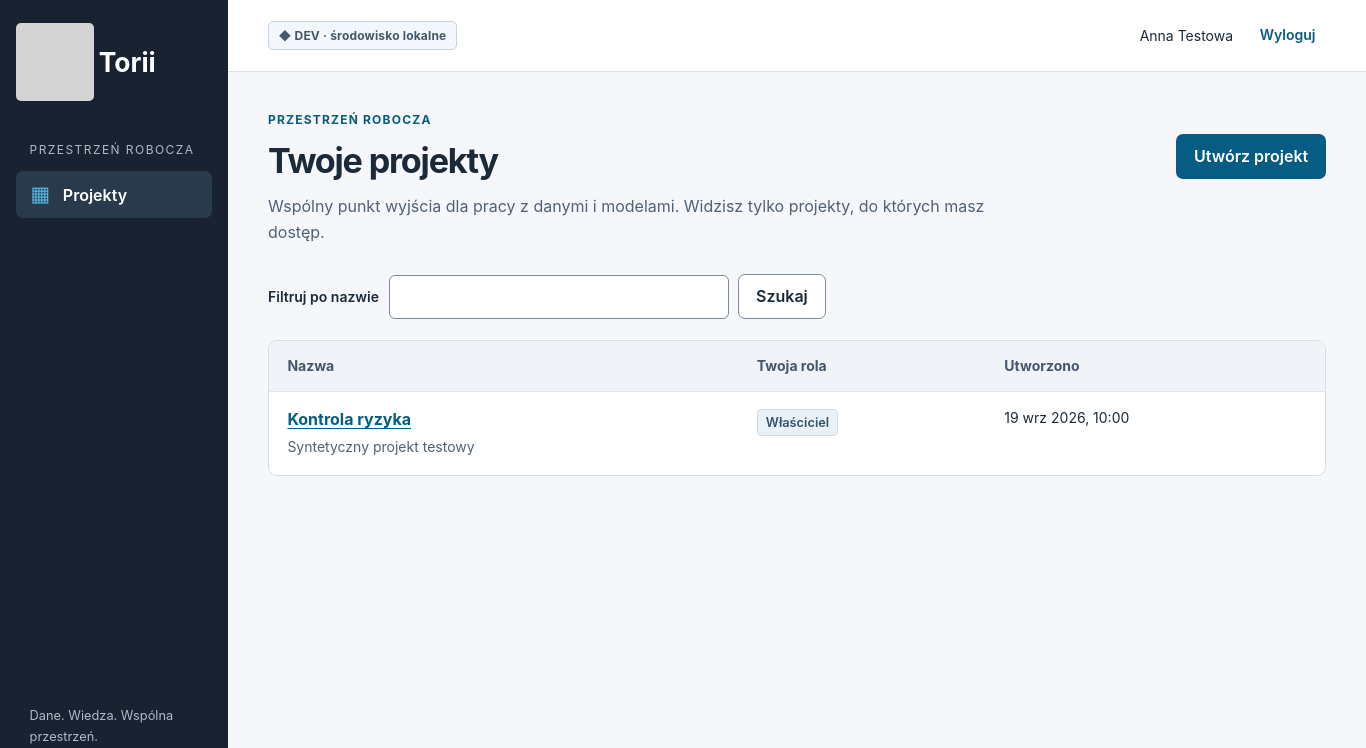
Test: SPEC-0017 AC-01/02/04/07/08 SP-01 component behavior (mock API) › maps 422 pointer to the field, with safe request ID and no arbitrary server title
This screenshot has width=1366, height=748.
Click the button "Utwórz projekt" at (1251, 157), box top-left (1176, 134), bottom-right (1326, 179)
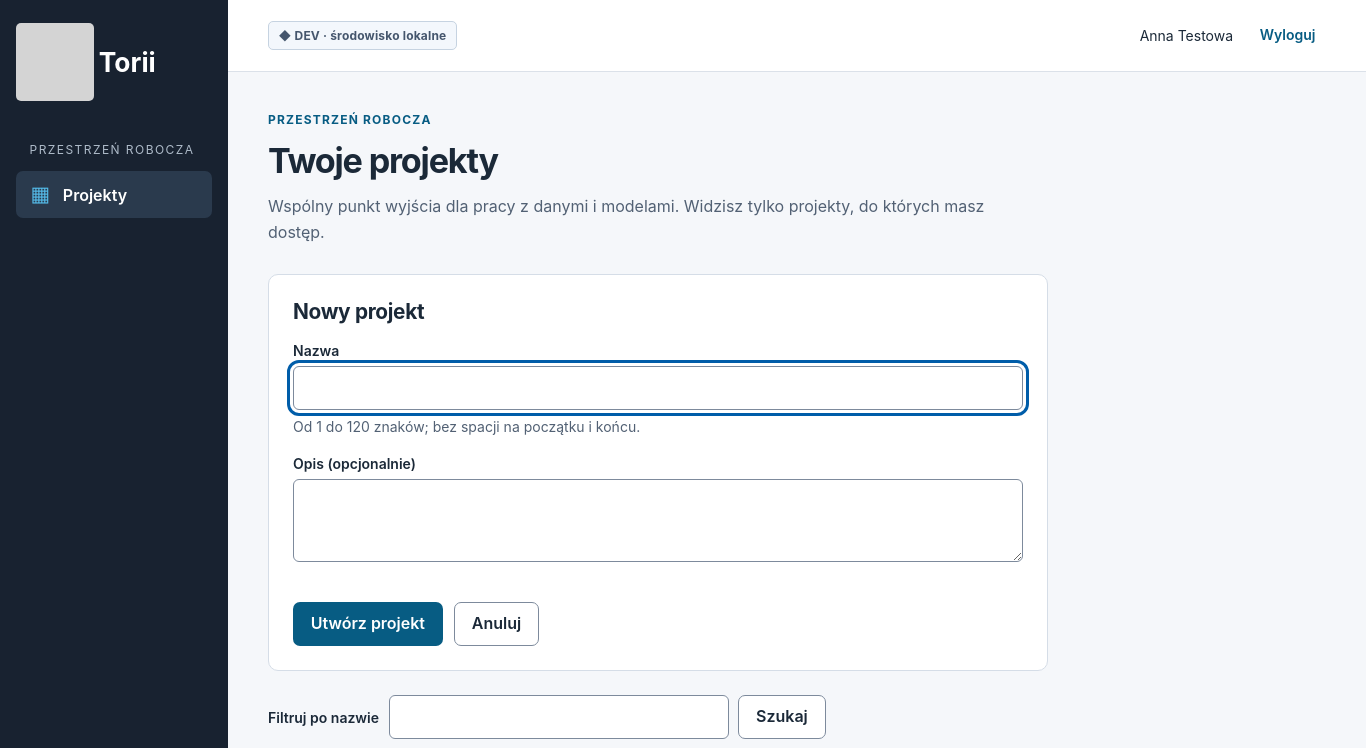
Type "Projekt" into the field labelled "Nazwa" at (658, 388), box top-left (293, 366), bottom-right (1023, 410)
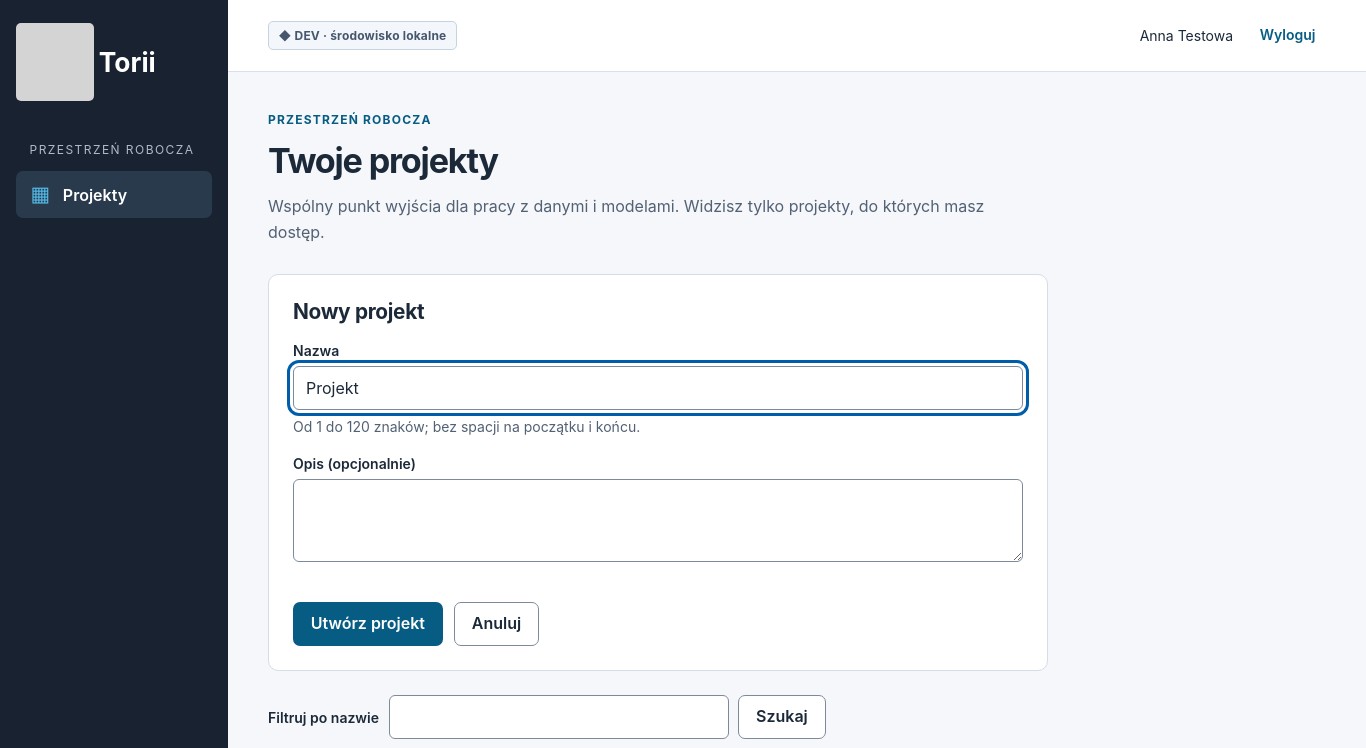
Click the button "Utwórz projekt" at (368, 624), box top-left (293, 602), bottom-right (443, 646)
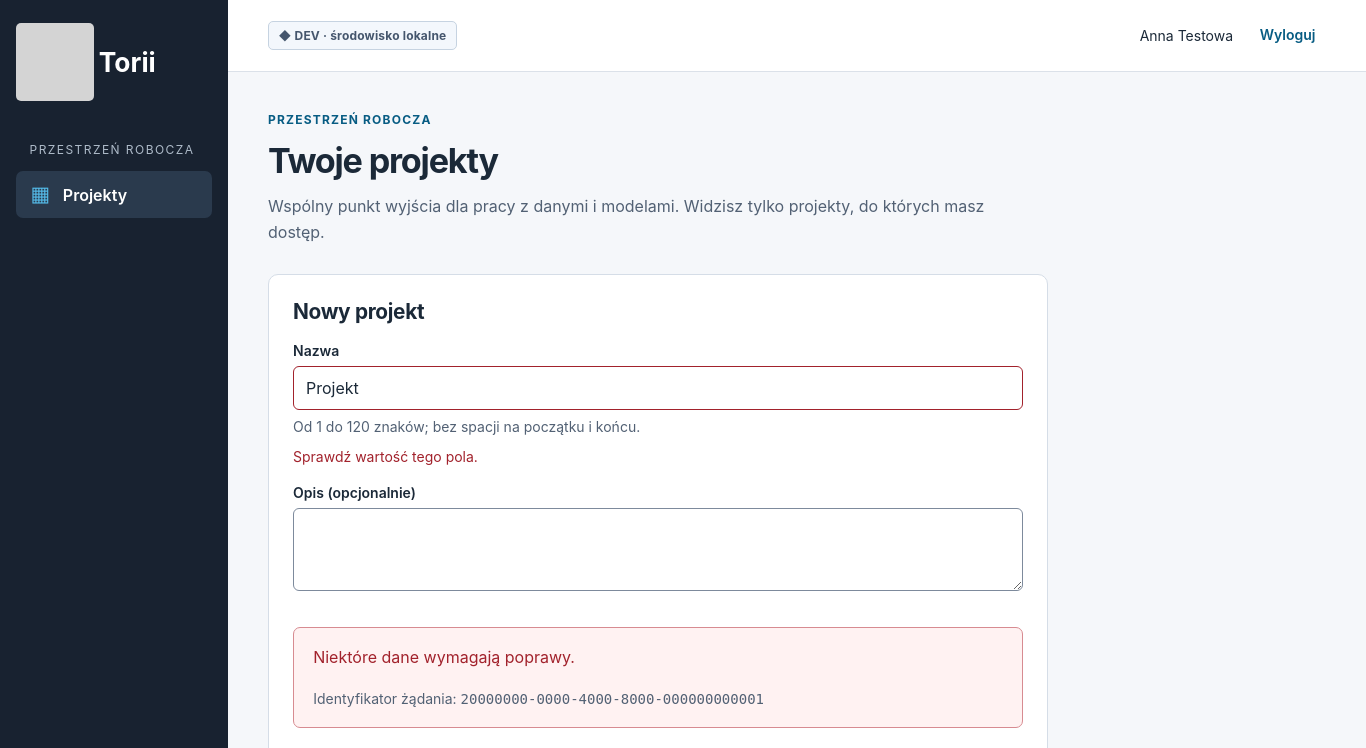
Now the text "Sprawdź wartość tego pola." is shown, box top-left (293, 448), bottom-right (478, 465)
Now the message shows "20000000-0000-4000-8000-000000000001", box top-left (461, 690), bottom-right (764, 706)
